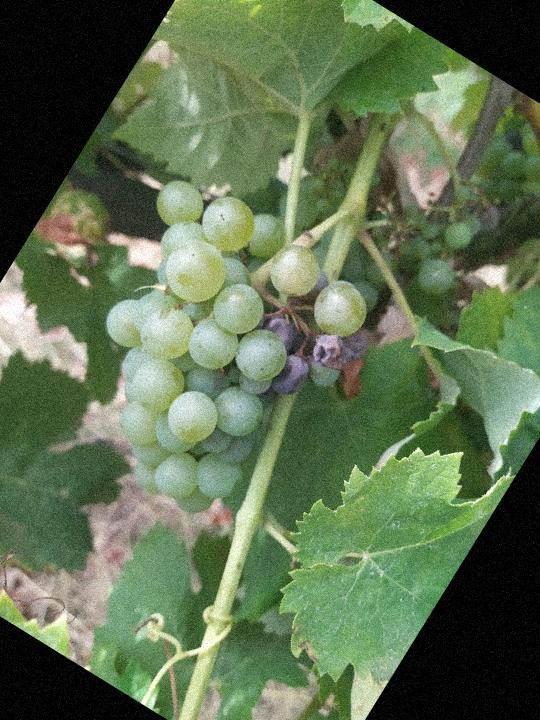grape: (19, 154, 403, 553)
